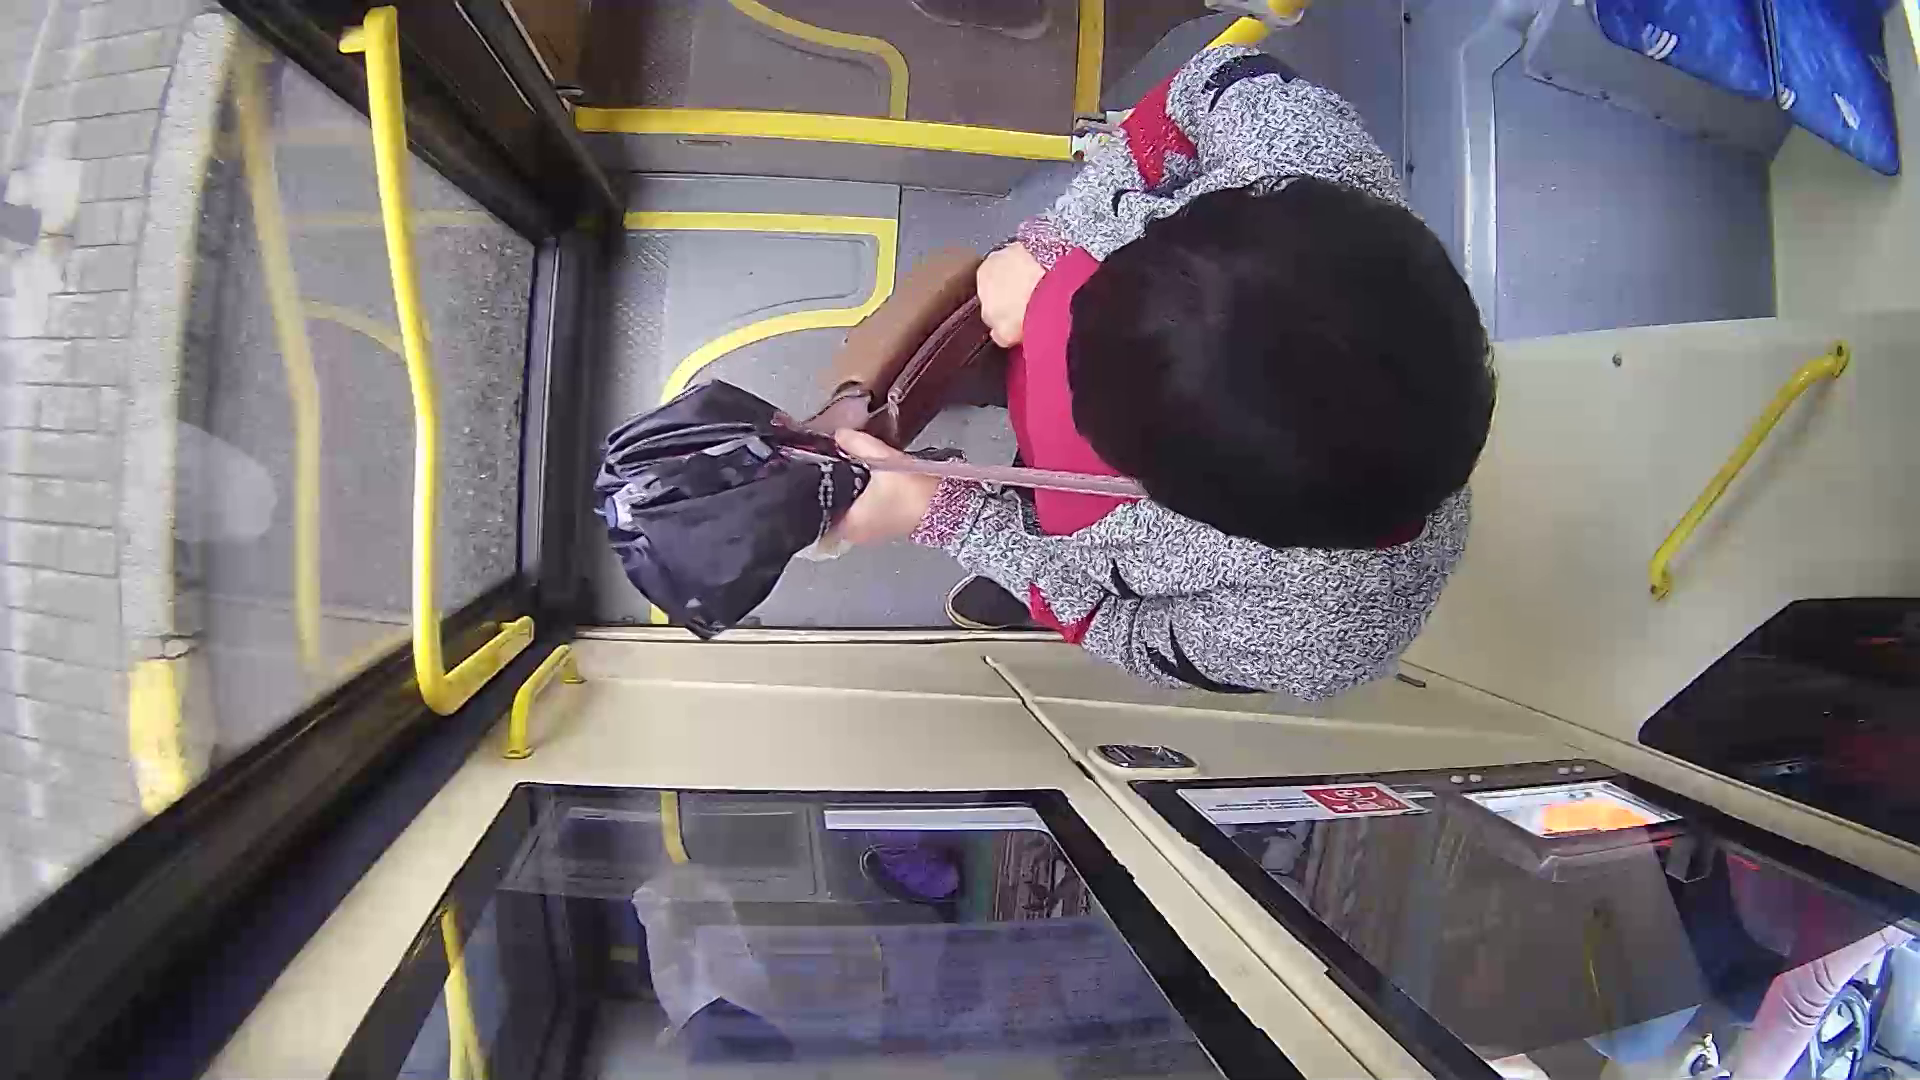person: (650, 65, 1536, 708)
